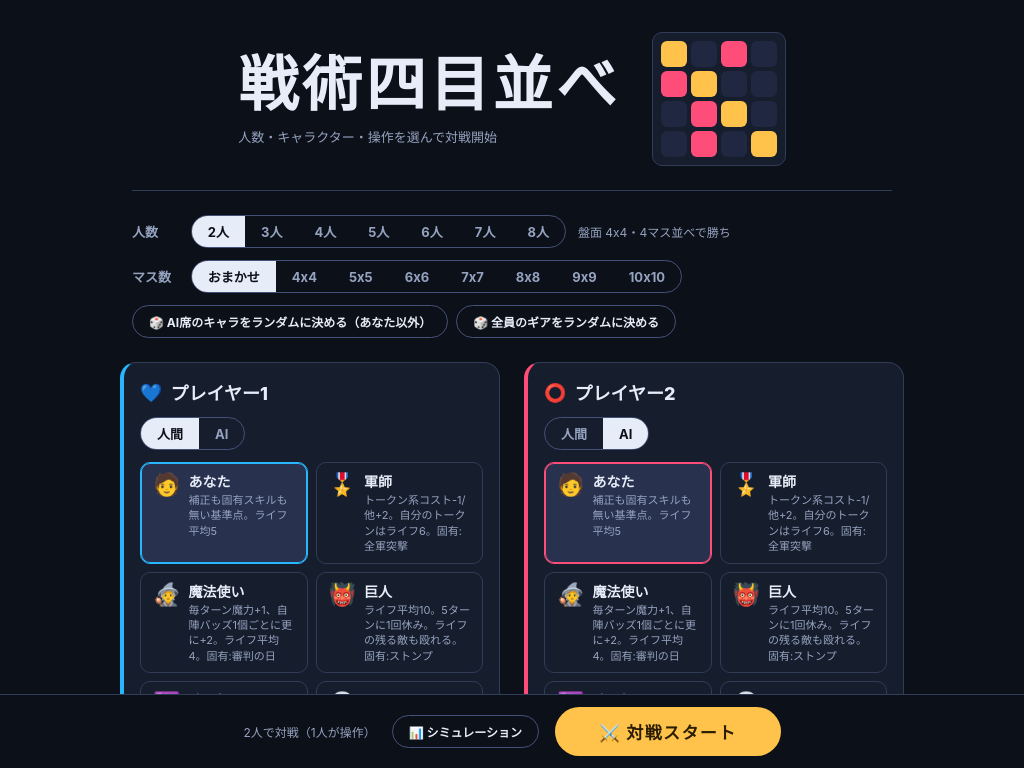
Test: おまかせに戻すと人数に応じた盤面になる
Click the button "10x10": point(647, 276) 613,261 -> 681,292
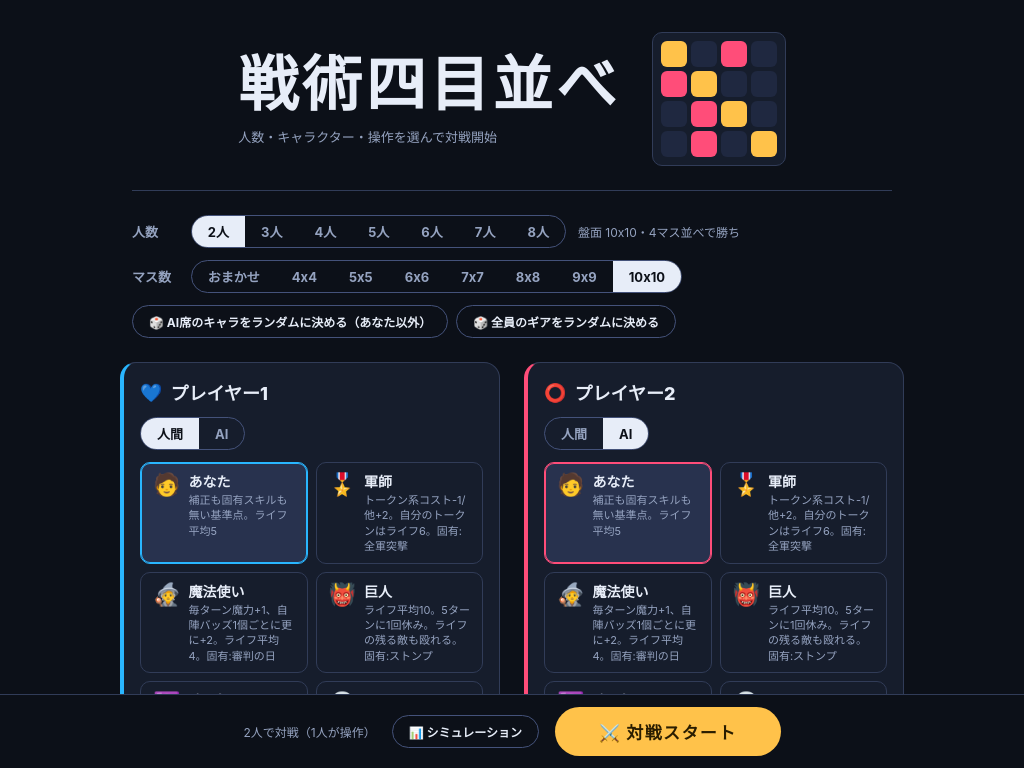
Expected: the text "盤面 10x10・4マス並べで勝ち" is shown, 578,223 -> 740,240
Click the button "おまかせ": point(234, 276) 192,261 -> 276,292
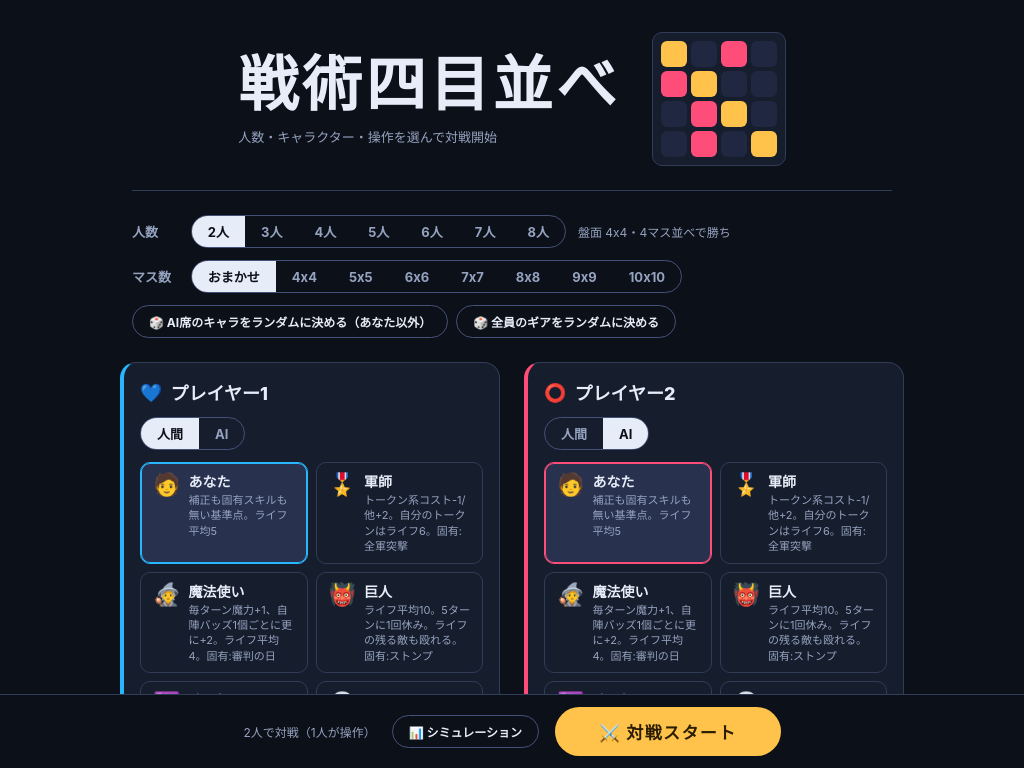
Click the button "5人": point(379, 232) 352,216 -> 405,247
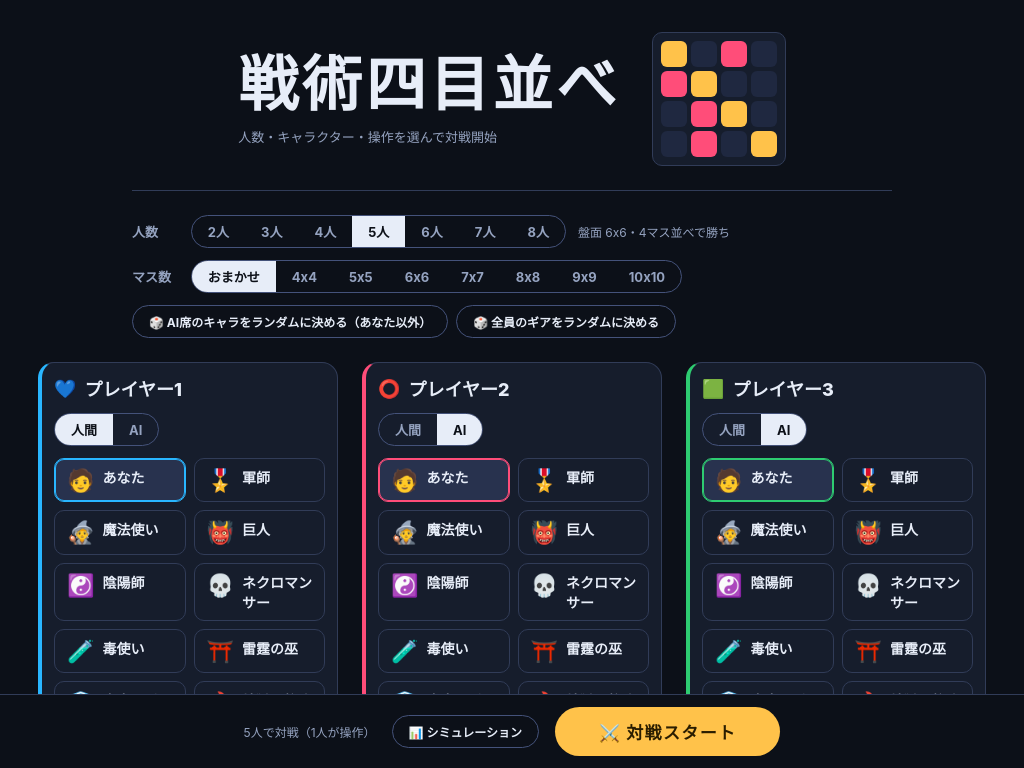
Expected: the text "盤面 6x6・4マス並べで勝ち" is shown, 578,223 -> 730,240
